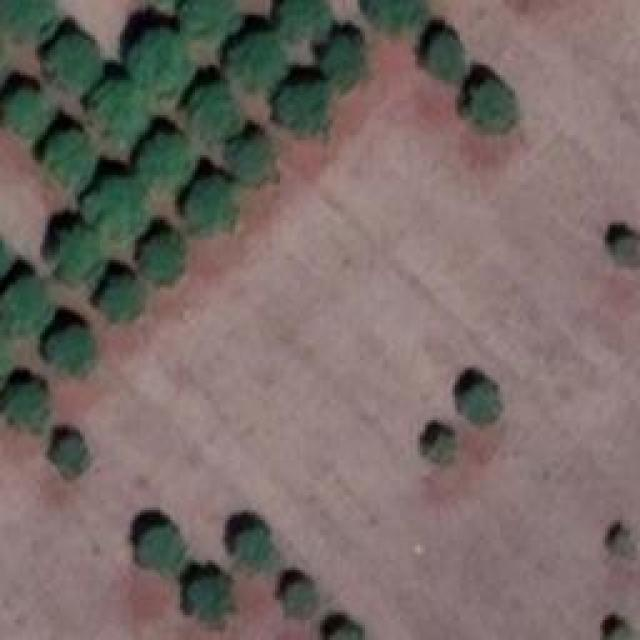Tree: (225, 28, 283, 88), (37, 35, 95, 93), (143, 130, 196, 193), (190, 83, 248, 138), (135, 28, 188, 88), (95, 78, 145, 141), (0, 272, 52, 332), (90, 175, 145, 230), (45, 223, 95, 278), (42, 130, 90, 183), (283, 85, 336, 133), (218, 130, 268, 178), (2, 380, 50, 428), (423, 33, 468, 83), (140, 230, 185, 280), (3, 85, 48, 135), (48, 323, 93, 373), (465, 80, 510, 130), (323, 33, 363, 88), (183, 177, 228, 225), (363, 0, 423, 35), (183, 577, 226, 625), (143, 525, 188, 570), (225, 525, 268, 570), (102, 275, 140, 323), (179, 0, 232, 32), (0, 0, 55, 30), (282, 580, 320, 620), (460, 383, 500, 418), (283, 0, 328, 30), (55, 435, 85, 468), (607, 235, 640, 265), (605, 525, 633, 560), (423, 430, 453, 458), (328, 625, 365, 640), (605, 622, 630, 640)
